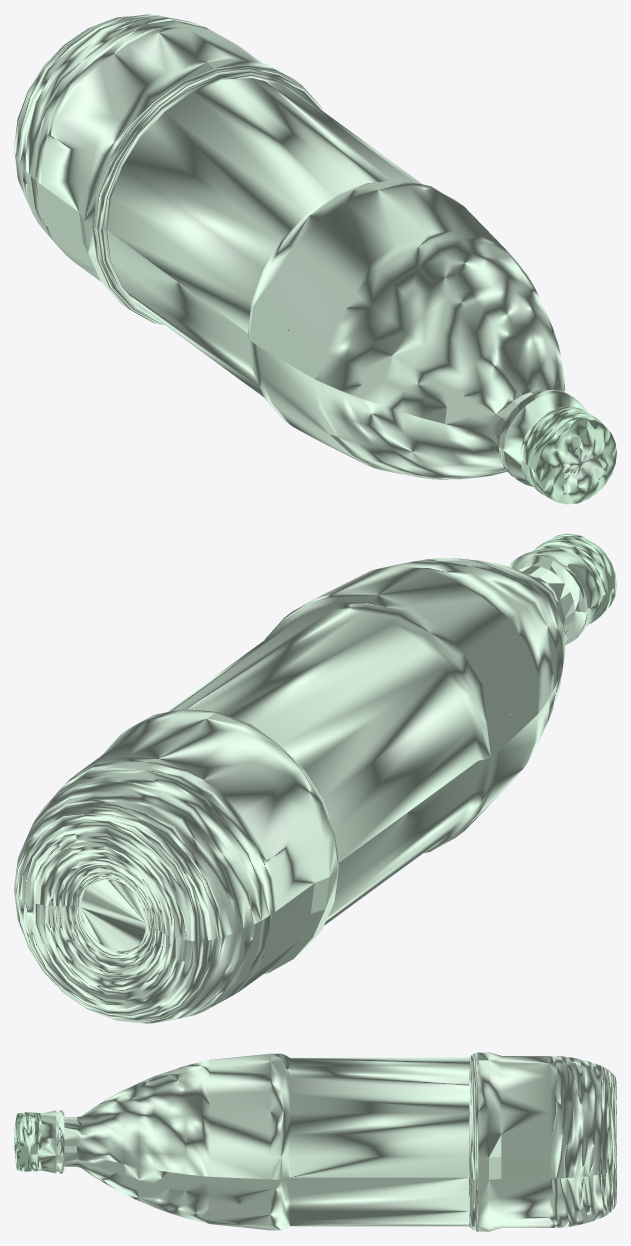
File: model_align.obj
3 views of the same model, one above another, from view 1: azimuth 30°, elevation 25°; view 2: azimuth 150°, elevation 25°; view 3: azimuth 270°, elevation 25° (orthographic). The views are drawn at different scales.
Size of the model in its own units: 0.0636 by 0.0636 by 0.2127.
